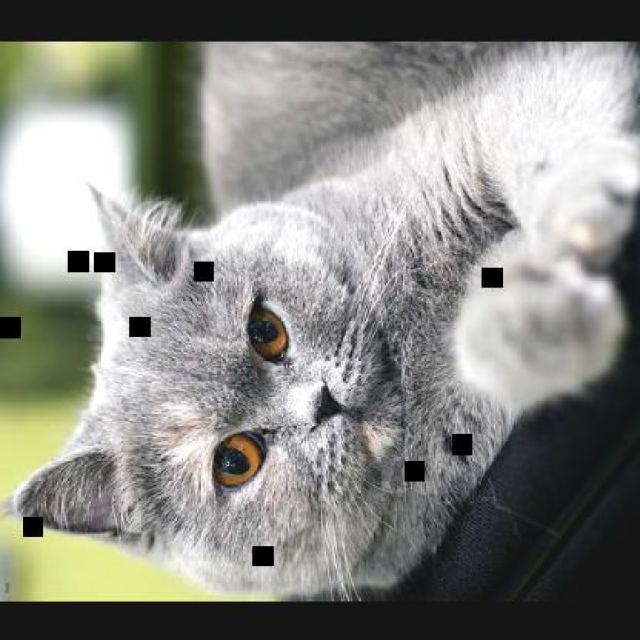unauthorized: (0, 40, 638, 600)
